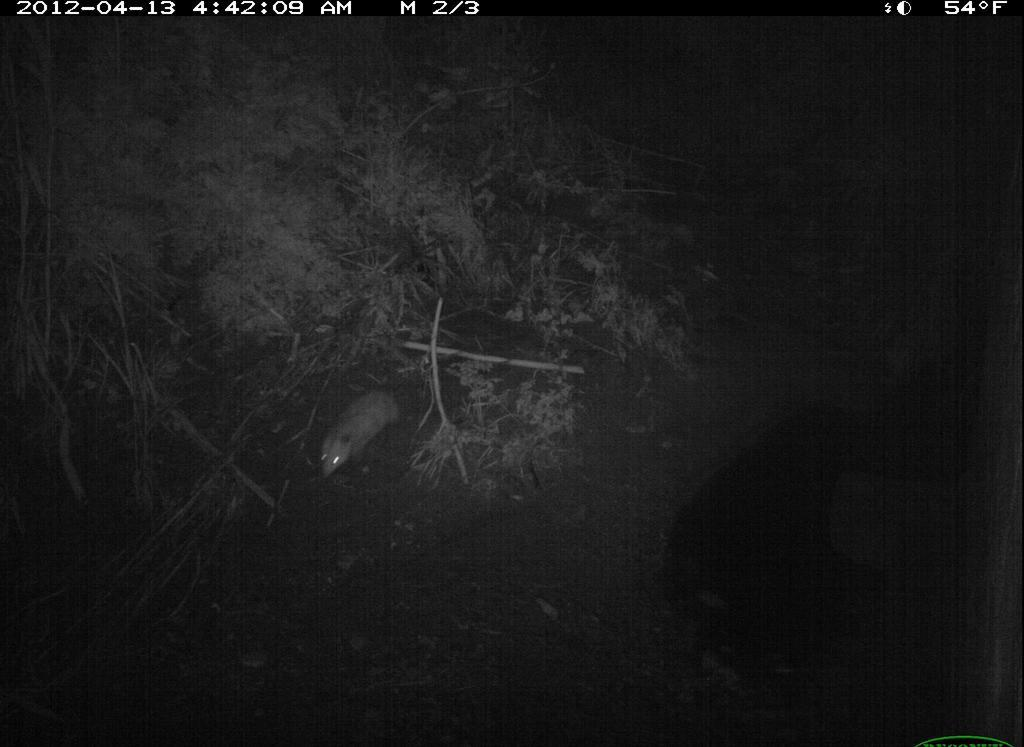opossum: (309, 381, 443, 495)
